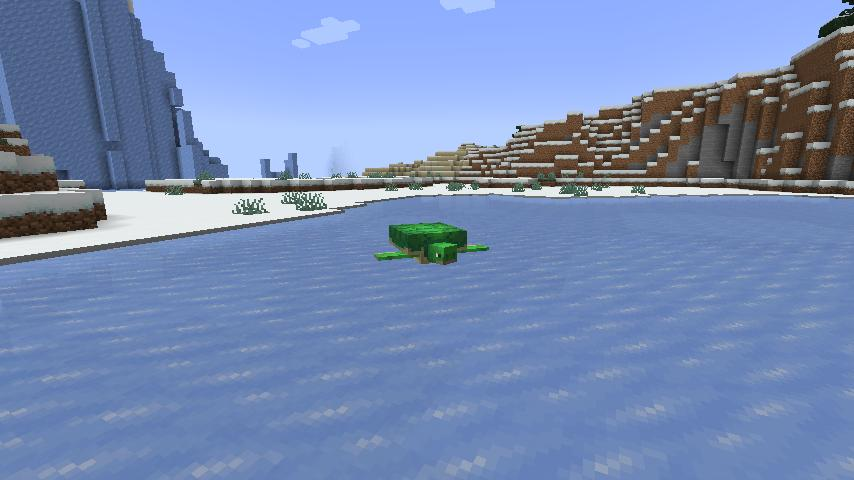turtle: (374, 217, 490, 270)
